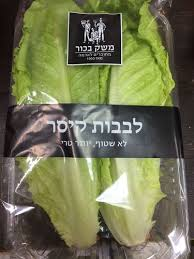Lettuce: (15, 3, 188, 258)
